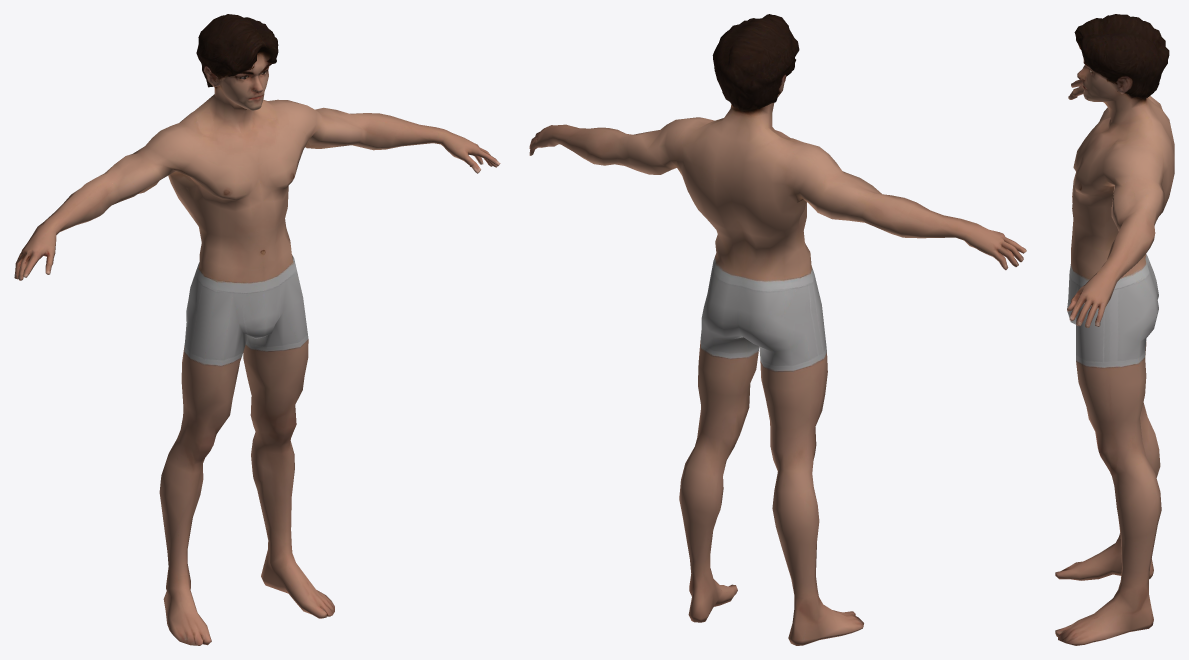
The picture shows the model from 3 angles, left to right: view 1: azimuth 30°, elevation 25°; view 2: azimuth 150°, elevation 25°; view 3: azimuth 270°, elevation 25°; orthographic projection. The views are drawn at different scales.
Parts seen in each view (by area): view 1: Wavy Brown Base Male; view 2: Wavy Brown Base Male; view 3: Wavy Brown Base Male.
Boxes of the visible parts, x1,y1,x2,y2 form: Wavy Brown Base Male: (14, 14, 500, 645); Wavy Brown Base Male: (529, 14, 1026, 645); Wavy Brown Base Male: (1055, 14, 1174, 645).
Bounding box in the file's own units: 0.8418 × 0.998 × 0.1816.
Materials: 1 (1 with a texture image).
